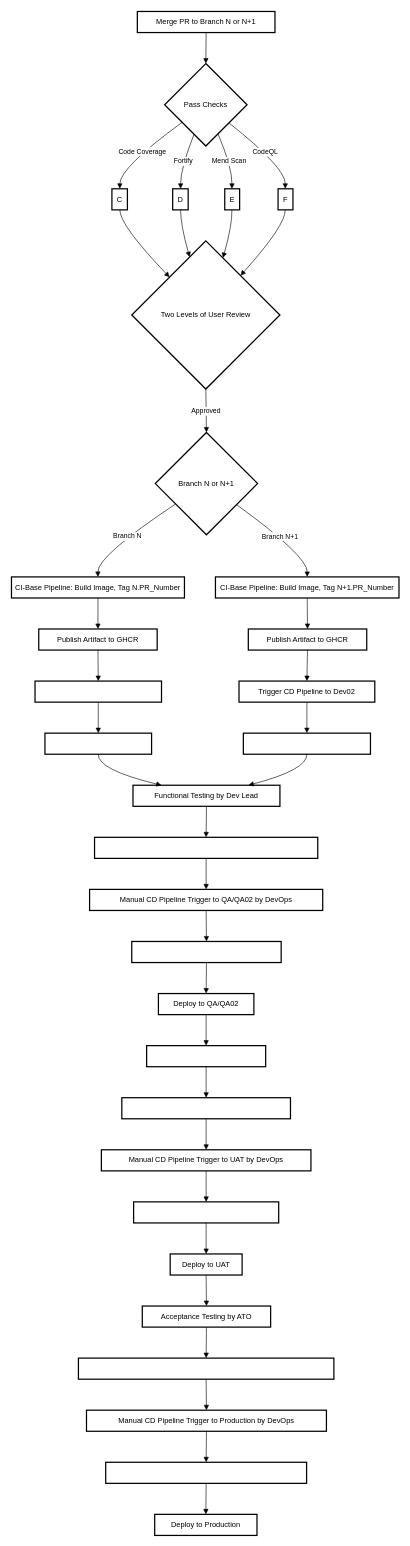
This 410x1546 diagram has some shape labels left out. Here are the shapes that lost their labels. From the top down, the box of each, then its label:
(34, 680, 162, 702): Trigger CD Pipeline to Dev
(44, 732, 152, 755): Deploy to Dev with N.
(242, 732, 371, 755): Deploy to Dev02 with N+1.
(94, 836, 318, 859): Create Jira Ticket with PR Number for QA/QA02
(131, 941, 281, 963): Dev Lead Approves Deployment
(146, 1045, 266, 1067): Functional Testing by QA
(121, 1097, 291, 1119): Raise Jira Request to Deploy to UAT
(133, 1201, 279, 1223): QA Lead Approves Deployment
(78, 1357, 334, 1380): Release Manager Raises Jira Request with CAB Approval
(105, 1461, 307, 1484): Prod Approver Group Approves Deployment
